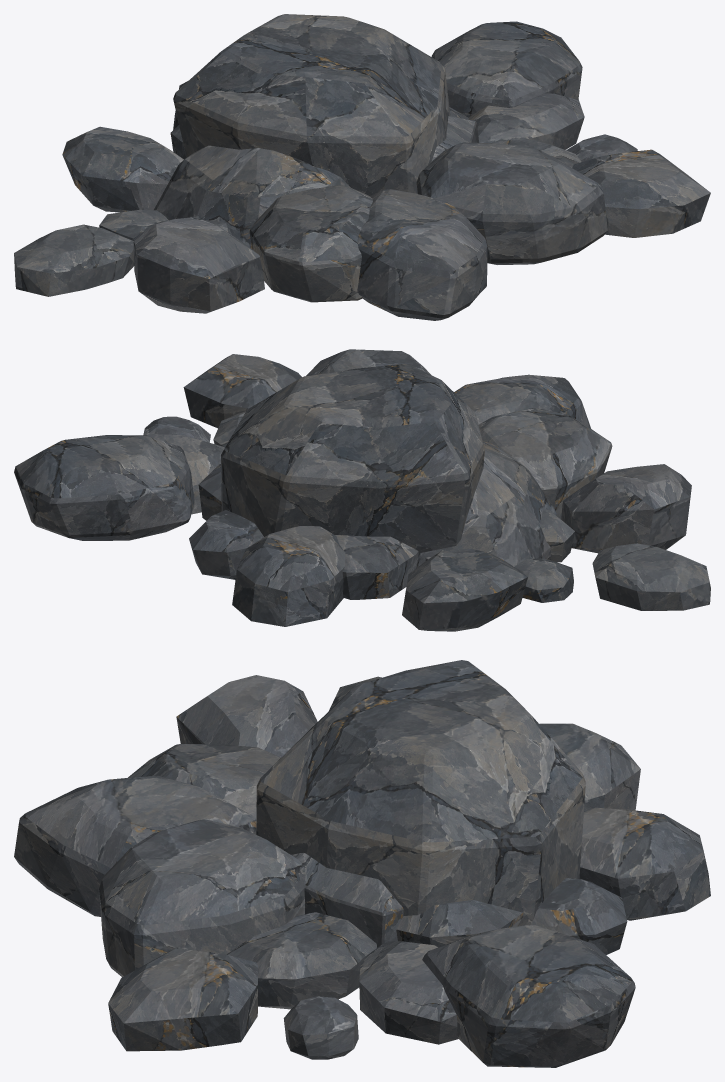
Rendered from Cave_R08_RubblePile.fbx.
The picture shows the model from 3 angles, top to bottom: view 1: azimuth 30°, elevation 25°; view 2: azimuth 150°, elevation 25°; view 3: azimuth 270°, elevation 25°; orthographic projection. The views are drawn at different scales.
Parts seen in each view (by area): view 1: Cave_R08_RubblePile_LOD0; view 2: Cave_R08_RubblePile_LOD0; view 3: Cave_R08_RubblePile_LOD0.
Part boxes in pixels (x1,y1,x2,y2): Cave_R08_RubblePile_LOD0: (14,14,710,320); Cave_R08_RubblePile_LOD0: (14,349,710,631); Cave_R08_RubblePile_LOD0: (14,660,710,1067).
Size of what is drawn, in the model's own units: 3.5 by 0.8553 by 2.76.
Materials: 1 (1 with a texture image).
